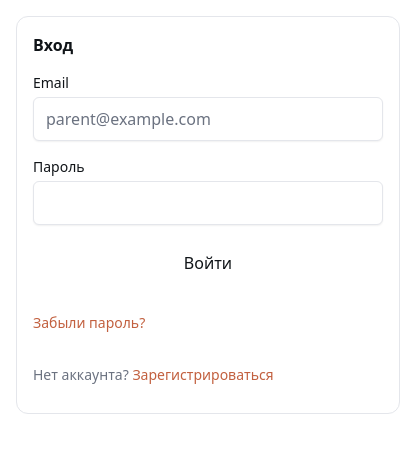
Test: LoginPage › проверяет поля до отправки
Click the button "Войти" at (208, 263), box x1=33 y1=241 x2=383 y2=285
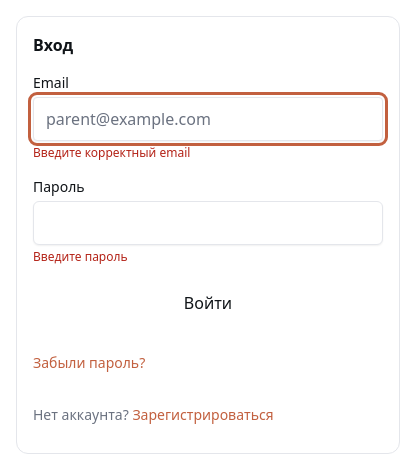
Result: the text "Введите корректный email" is shown at x1=33 y1=144 x2=190 y2=161
Result: the text "Введите пароль" is shown at x1=33 y1=248 x2=128 y2=265
